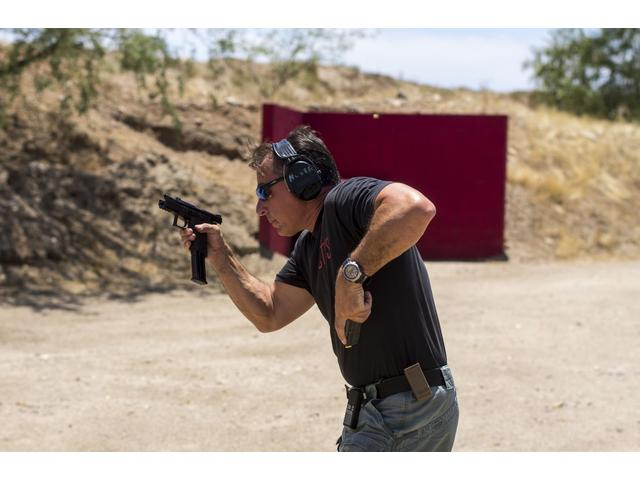pistol: (157, 192, 224, 293)
